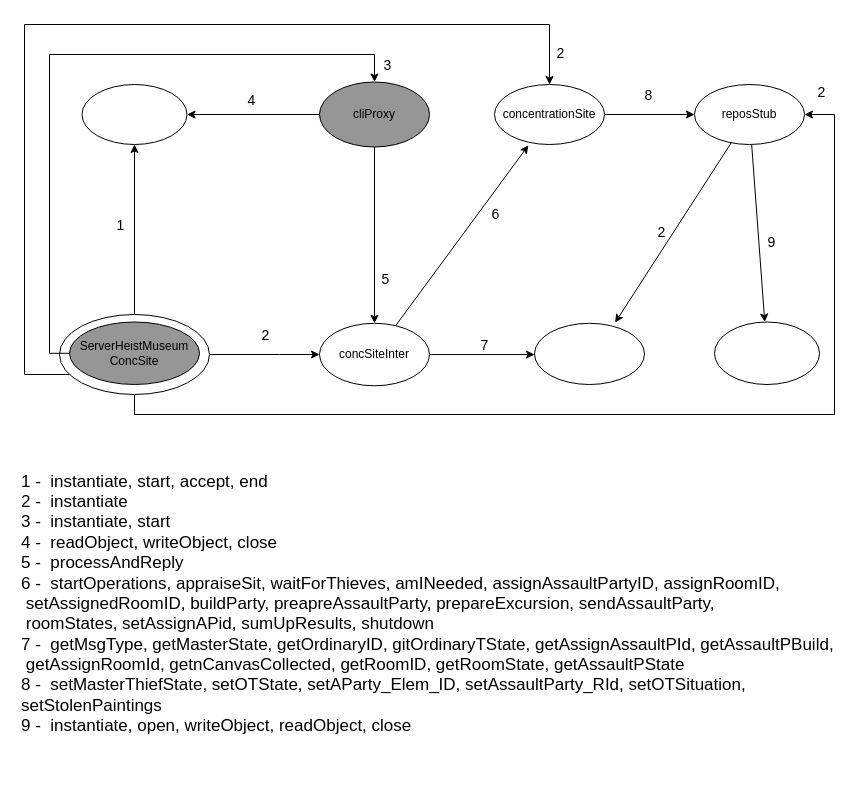
The diagram is 860 pixels wide and 802 high, and some of its shapes have lost their labels. Each missing label, with the centre of its shape:
com: (767,352)
outMessage, inMessage: (589,353)
scon: (134,114)
